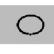no answer: (15, 12, 45, 36)
